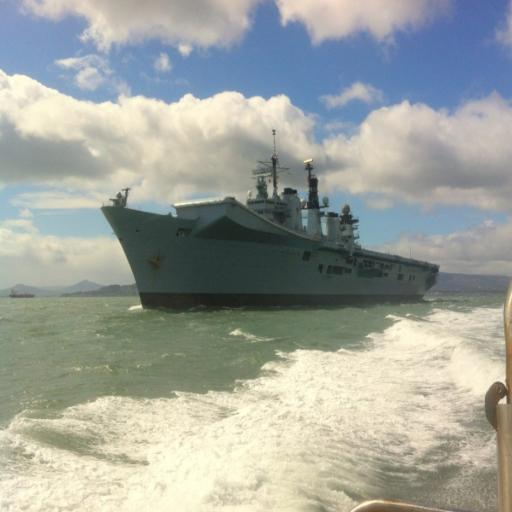Portanaves: (101, 119, 445, 316)
